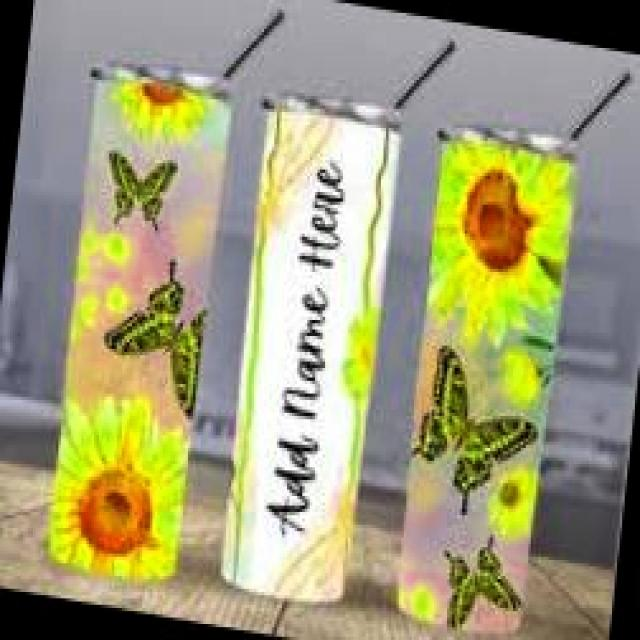bottle: (39, 56, 228, 581), (211, 85, 401, 603), (389, 115, 574, 640)
